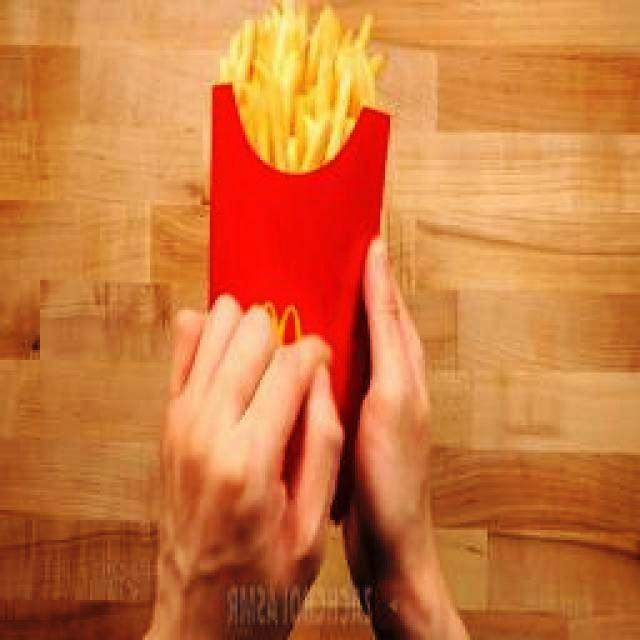french fries: (220, 1, 384, 172)
